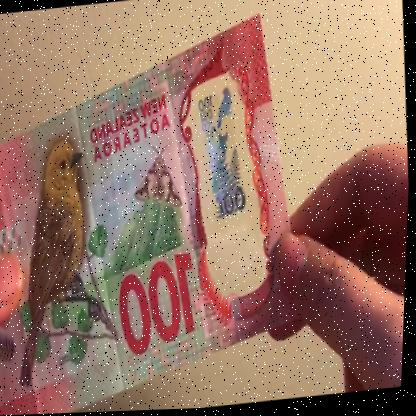100B: (189, 79, 257, 255)
